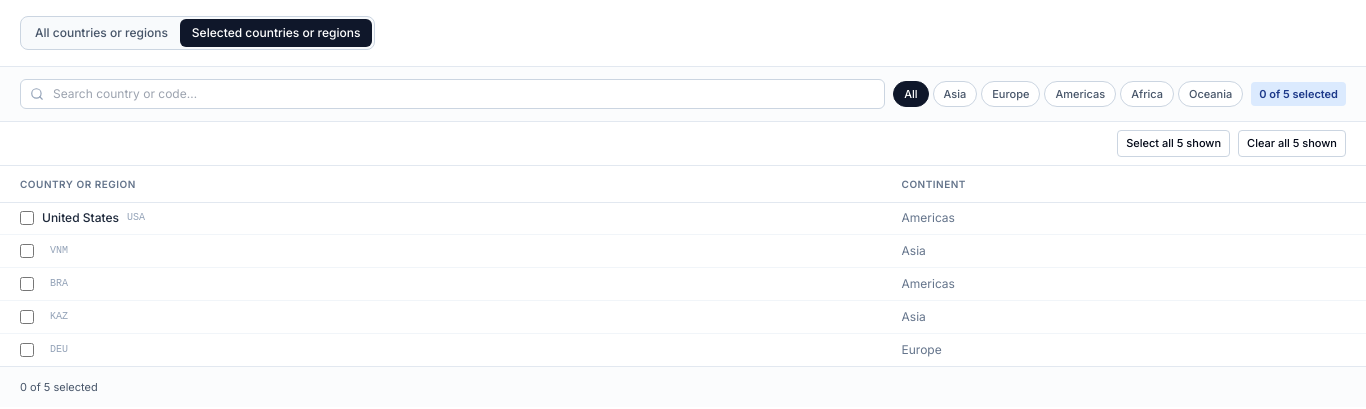
Test: select all / clear all address only what is shown › the button label carries the number it will affect
This screenshot has width=1366, height=409.
Click the button "Americas".
click(1080, 94)  # box top-left (1044, 81), bottom-right (1116, 107)
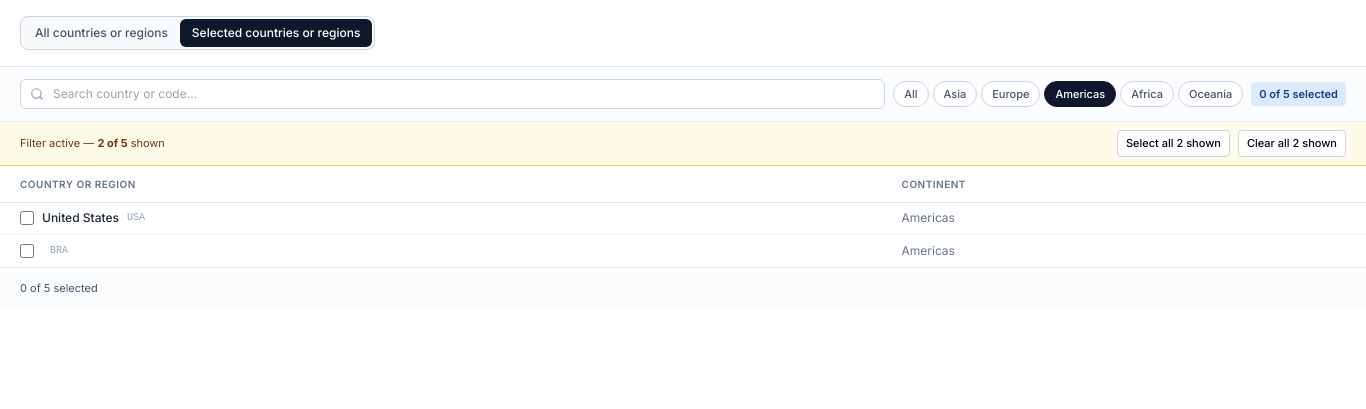
Check: the button "Select all 2 shown" is shown, box top-left (1117, 130), bottom-right (1230, 156)
